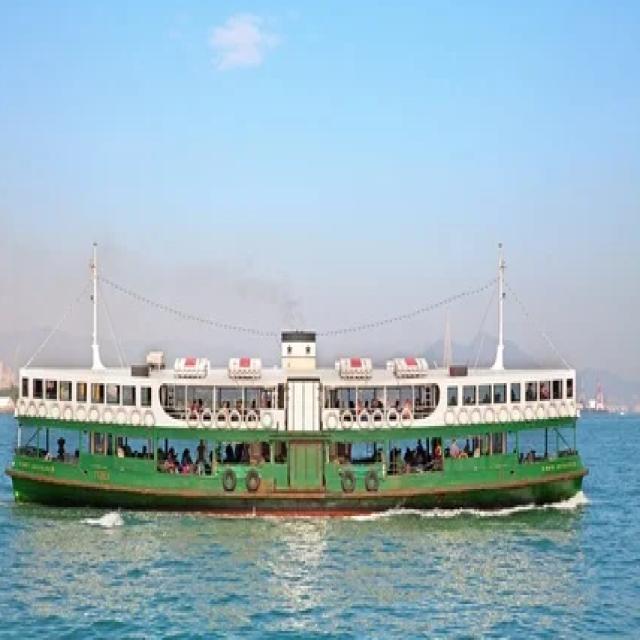passenger ship: (21, 280, 586, 508)
